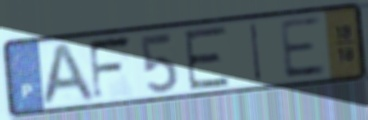5: (138, 29, 182, 95)
A: (38, 40, 99, 109)
E: (277, 14, 329, 82), (181, 23, 232, 92)
F: (86, 33, 135, 104)
I: (248, 20, 264, 85)
